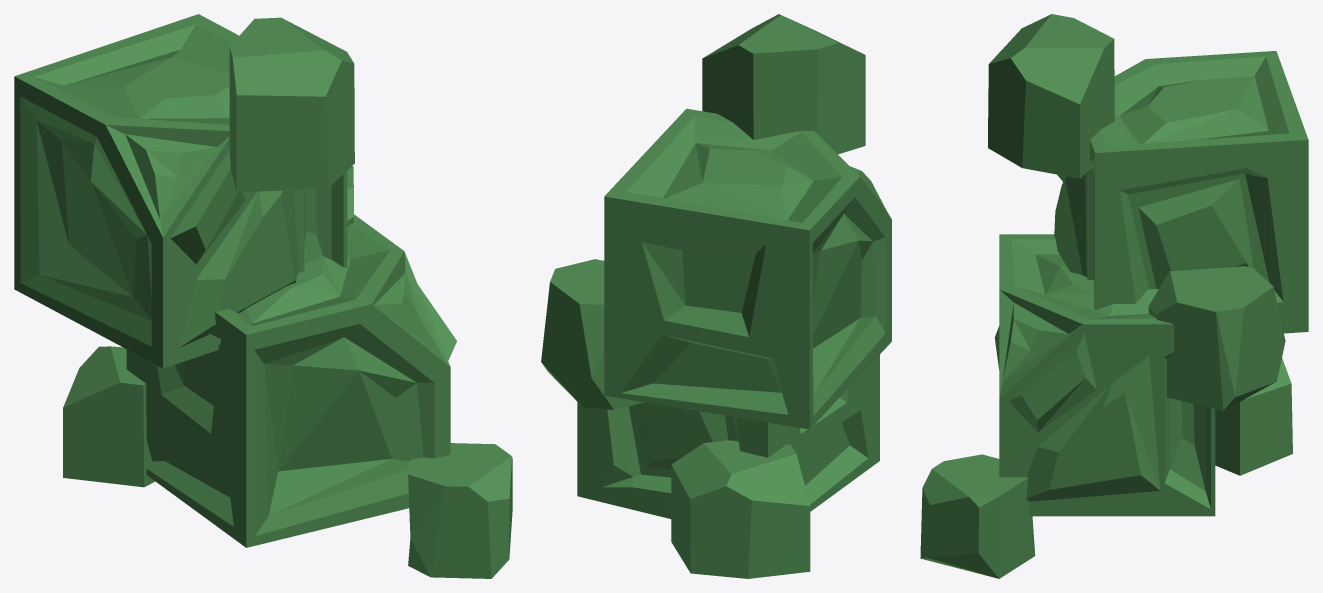
File: SM_Crystal 3.glb
3 views of the same model, side by side, from view 1: azimuth 30°, elevation 25°; view 2: azimuth 150°, elevation 25°; view 3: azimuth 270°, elevation 25° (orthographic). The views are drawn at different scales.
Visible parts, largest first — view 1: SM_Crystal 3; view 2: SM_Crystal 3; view 3: SM_Crystal 3.
Boxes of the visible parts, box(x1,y1,x2,y2) form: SM_Crystal 3: box(14, 14, 512, 578); SM_Crystal 3: box(541, 14, 891, 578); SM_Crystal 3: box(920, 14, 1308, 578).
Size of the model in its own units: 0.17 by 0.25 by 0.19.
Materials: 1 (1 with a texture image).
